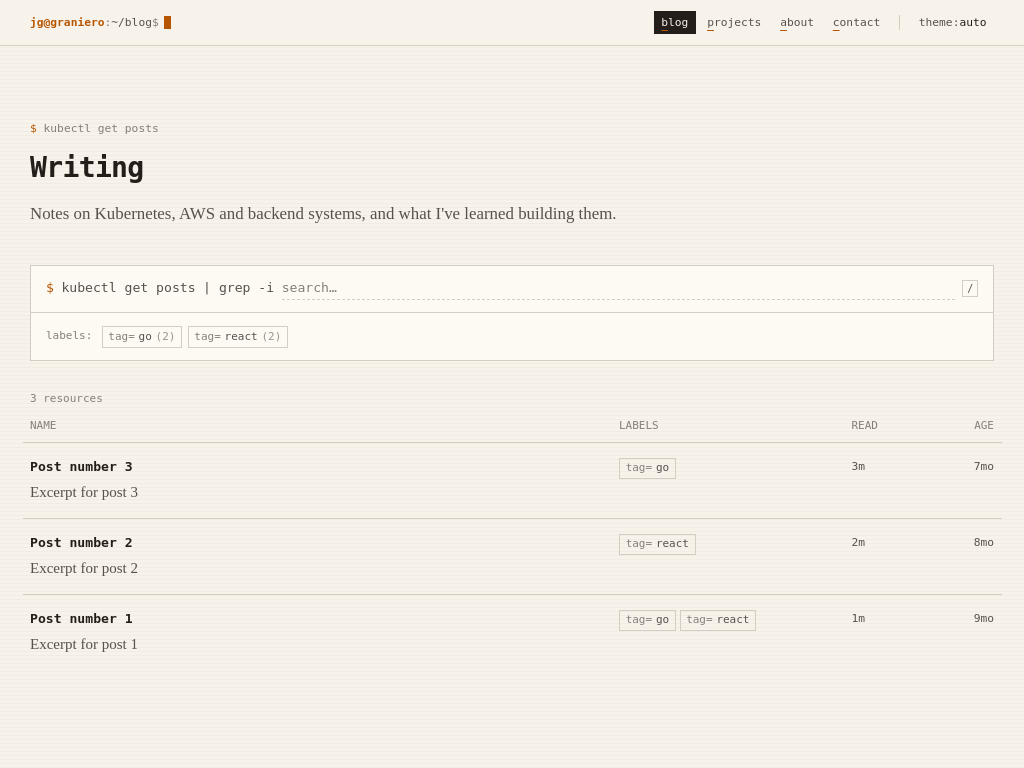
Test: BlogPage › filters by tag and syncs the filter to the URL
Click the link named "tag=go" at (142, 337), box [102,326,182,348]
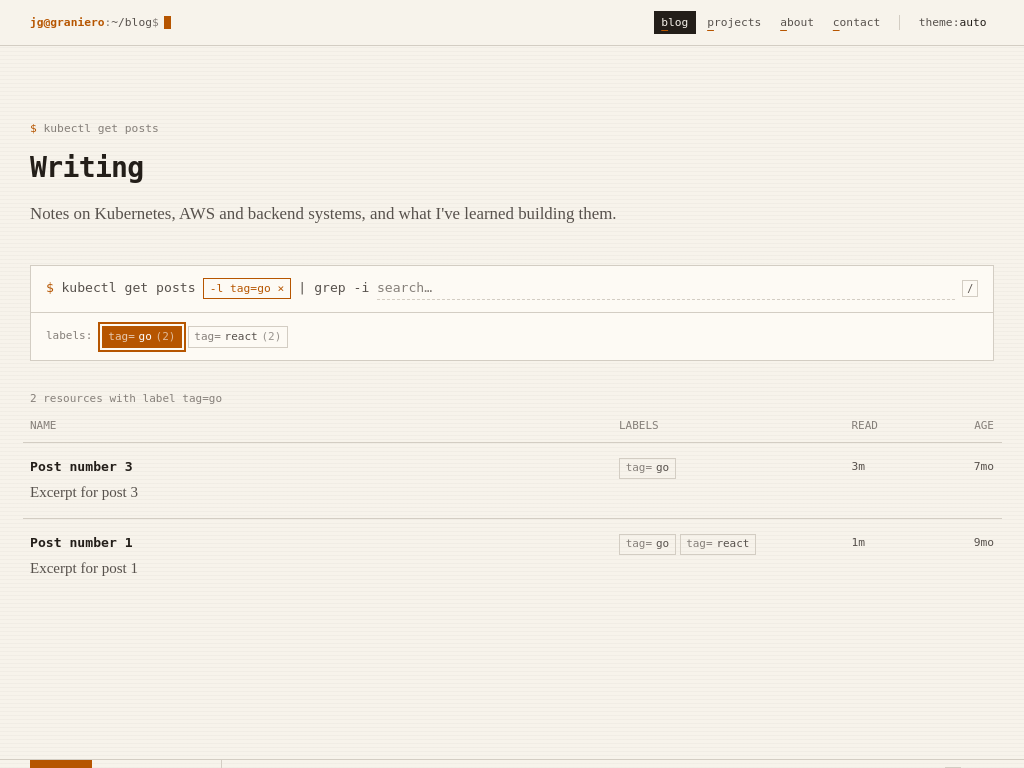
Check: the text "2 resources with label tag=go" is shown, box [30,392,222,404]
